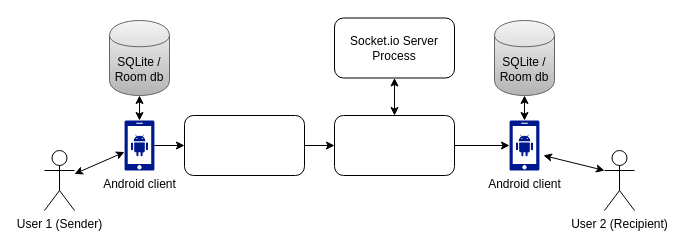
The diagram is 685 pixels wide and 248 high, and some of its shapes have lost their labels. The shapes that lost their labels are listed below. From the top down, each one's centre as x and y in pixels, then its label:
At pixel 244 145: "ECIES Encrypted Message (Base64 encoded ByteArray)".
At pixel 394 145: "Asynchronous I/O HTTP Server (Azure VM)".
